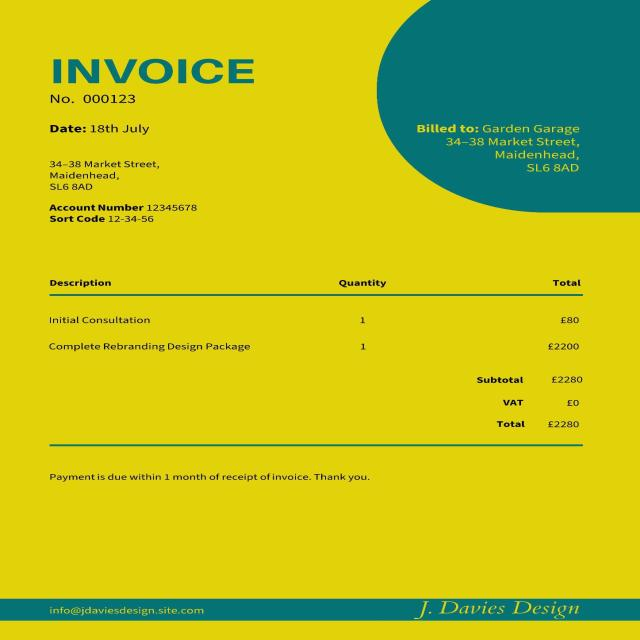paragraph: (40, 156, 208, 226), (417, 124, 588, 174), (468, 372, 602, 433), (46, 54, 264, 87), (49, 473, 371, 489), (416, 600, 589, 622), (44, 601, 208, 620), (47, 121, 158, 139), (38, 93, 148, 109)
table: (21, 277, 612, 358)
